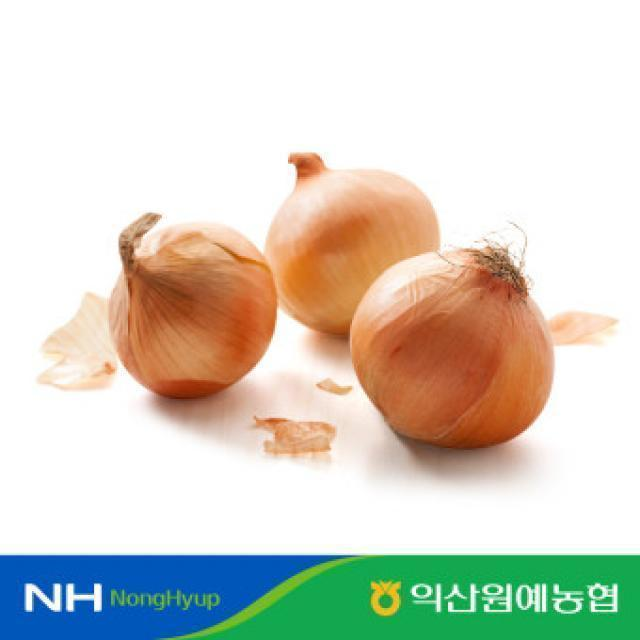Onion: (353, 215, 552, 448), (110, 210, 279, 400), (265, 154, 438, 338), (38, 294, 122, 389), (243, 415, 337, 453), (548, 313, 623, 344), (313, 375, 356, 396)
